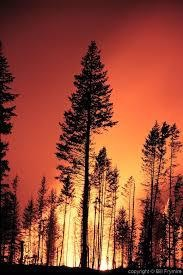fire: (45, 184, 129, 270)
